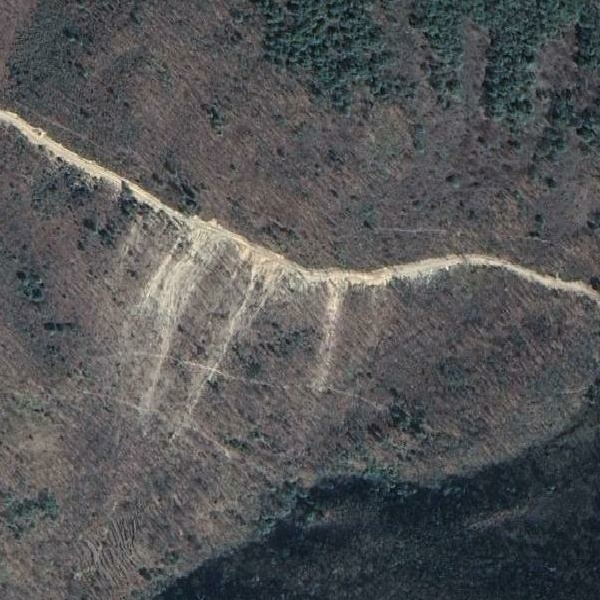slope: (119, 219, 299, 439), (311, 275, 352, 391)
